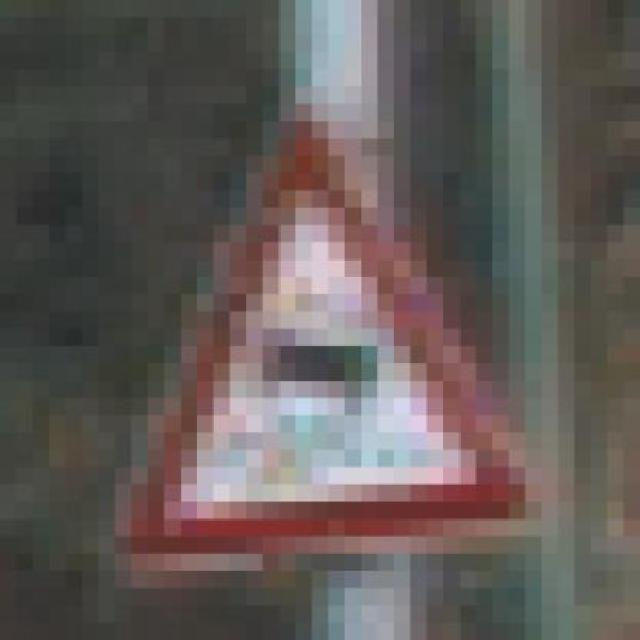Slippery Road Ahead: (81, 86, 542, 554)
